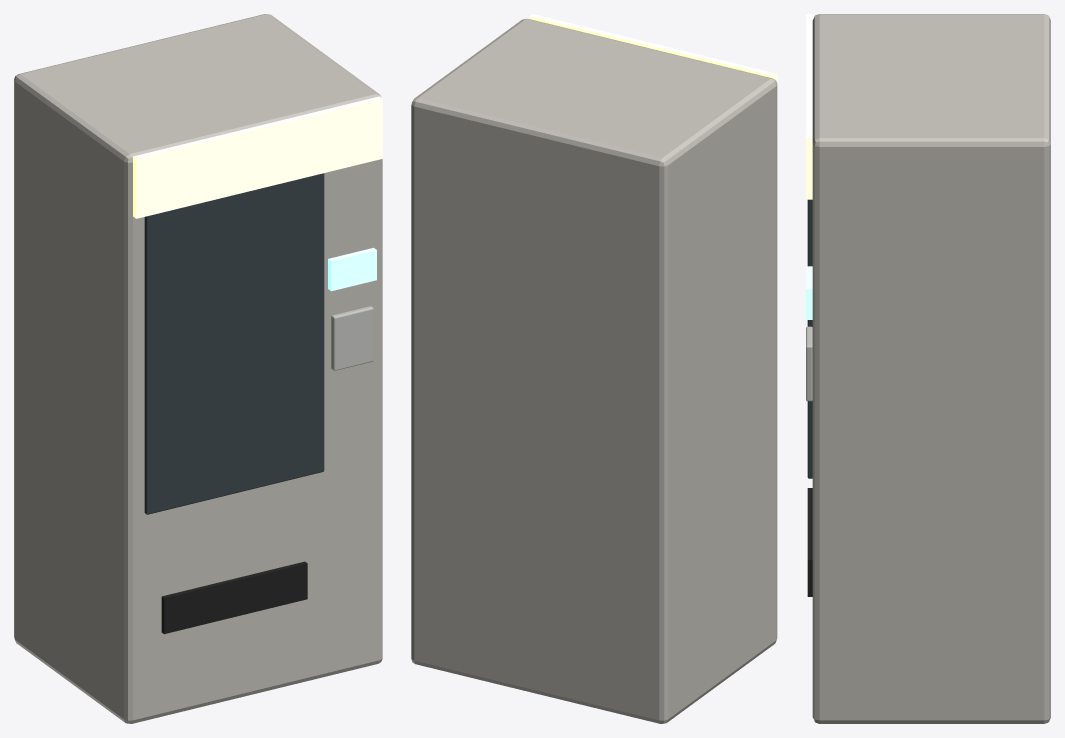
File: kiosk.glb
3 views of the same model, side by side, from view 1: azimuth 30°, elevation 25°; view 2: azimuth 150°, elevation 25°; view 3: azimuth 270°, elevation 25° (orthographic). The views are drawn at different scales.
Parts seen in each view (by area): view 1: Kiosk; view 2: Kiosk; view 3: Kiosk.
Part boxes in pixels (box(x1,y1,x2,y2)): Kiosk: box(14, 14, 382, 723); Kiosk: box(411, 14, 777, 723); Kiosk: box(806, 14, 1050, 723).
Size of the model in its own units: 0.9 by 1.9 by 0.72.
